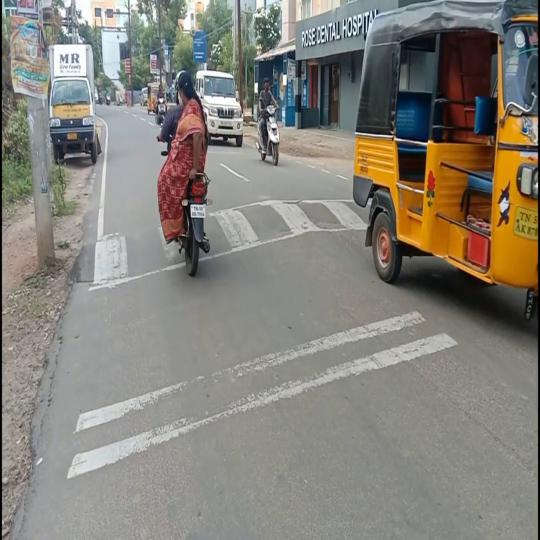Speed Bump: (214, 200, 354, 257), (75, 224, 161, 286)
